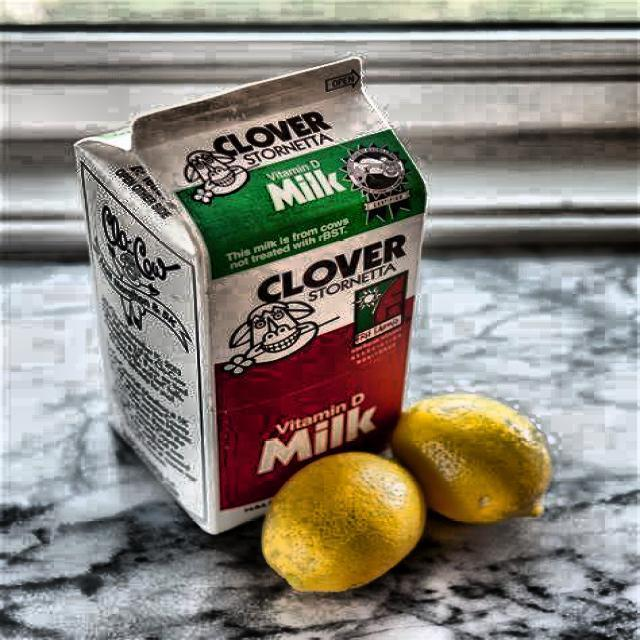cardboard: (71, 56, 428, 535)
